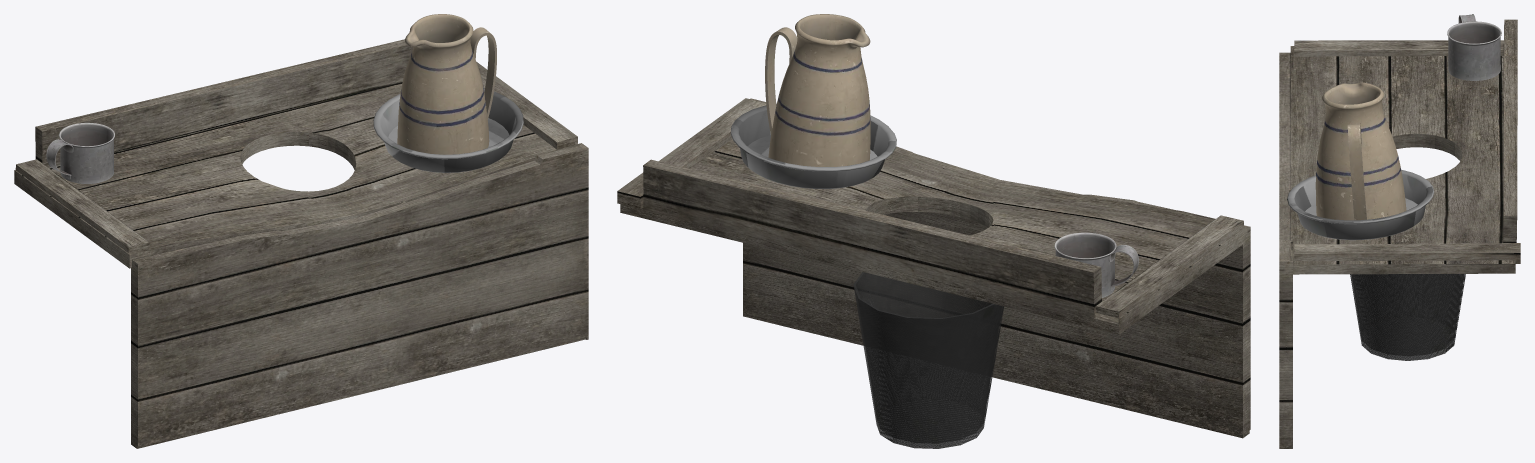
File: toilet.gltf
3 views of the same model, side by side, from view 1: azimuth 30°, elevation 25°; view 2: azimuth 150°, elevation 25°; view 3: azimuth 270°, elevation 25° (orthographic). The views are drawn at different scales.
Visible parts, largest first — view 1: SM_Outhouse_01a.001, SM_Containers_02b_14_StaticMeshComponent0.001, SM_Metalware_04a_240_StaticMeshComponent0.001, SM_Dishes_01e_22_StaticMeshComponent0.001; view 2: SM_Outhouse_01a.001, Mesh_Bucket_01.001, SM_Containers_02b_14_StaticMeshComponent0.001, SM_Metalware_04a_240_StaticMeshComponent0.001, SM_Dishes_01e_22_StaticMeshComponent0.001; view 3: SM_Outhouse_01a.001, SM_Containers_02b_14_StaticMeshComponent0.001, Mesh_Bucket_01.001, SM_Metalware_04a_240_StaticMeshComponent0.001, SM_Dishes_01e_22_StaticMeshComponent0.001.
Part boxes in pixels (x1,y1,x2,y2): SM_Outhouse_01a.001: [14, 39, 588, 448]; SM_Containers_02b_14_StaticMeshComponent0.001: [397, 14, 496, 154]; SM_Metalware_04a_240_StaticMeshComponent0.001: [373, 88, 523, 172]; SM_Dishes_01e_22_StaticMeshComponent0.001: [46, 122, 114, 183]; SM_Outhouse_01a.001: [617, 98, 1250, 438]; Mesh_Bucket_01.001: [853, 272, 1003, 448]; SM_Containers_02b_14_StaticMeshComponent0.001: [765, 14, 870, 166]; SM_Metalware_04a_240_StaticMeshComponent0.001: [730, 103, 896, 188]; SM_Dishes_01e_22_StaticMeshComponent0.001: [1054, 232, 1138, 297]; SM_Outhouse_01a.001: [1279, 19, 1520, 448]; SM_Containers_02b_14_StaticMeshComponent0.001: [1315, 82, 1406, 220]; Mesh_Bucket_01.001: [1350, 274, 1465, 360]; SM_Metalware_04a_240_StaticMeshComponent0.001: [1287, 169, 1434, 240]; SM_Dishes_01e_22_StaticMeshComponent0.001: [1447, 14, 1501, 80].
Bounding box in the file's own units: 1.13 × 0.7455 × 0.5334.
5 materials, 5 textured.
